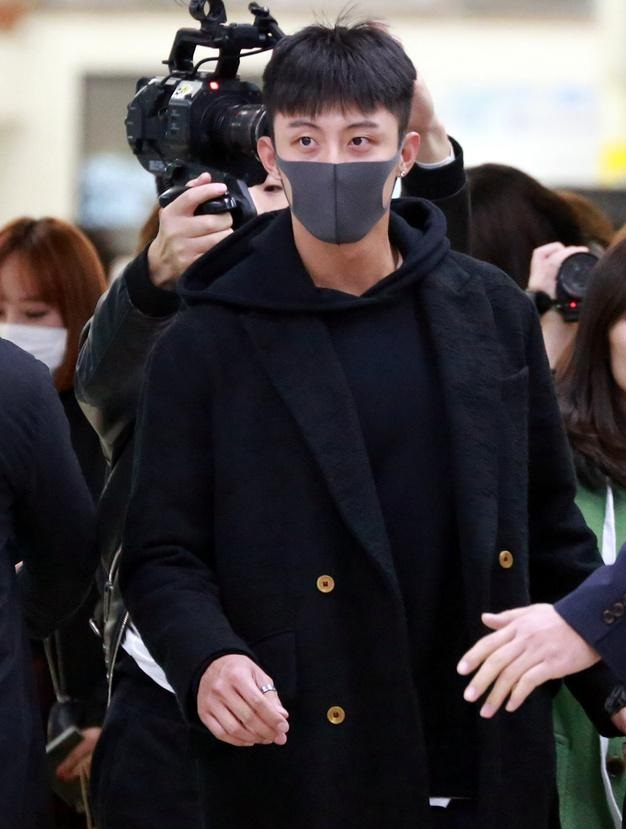face_mask: (275, 107, 393, 244), (1, 253, 64, 382)
